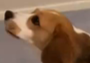Dog: (2, 8, 71, 62)
